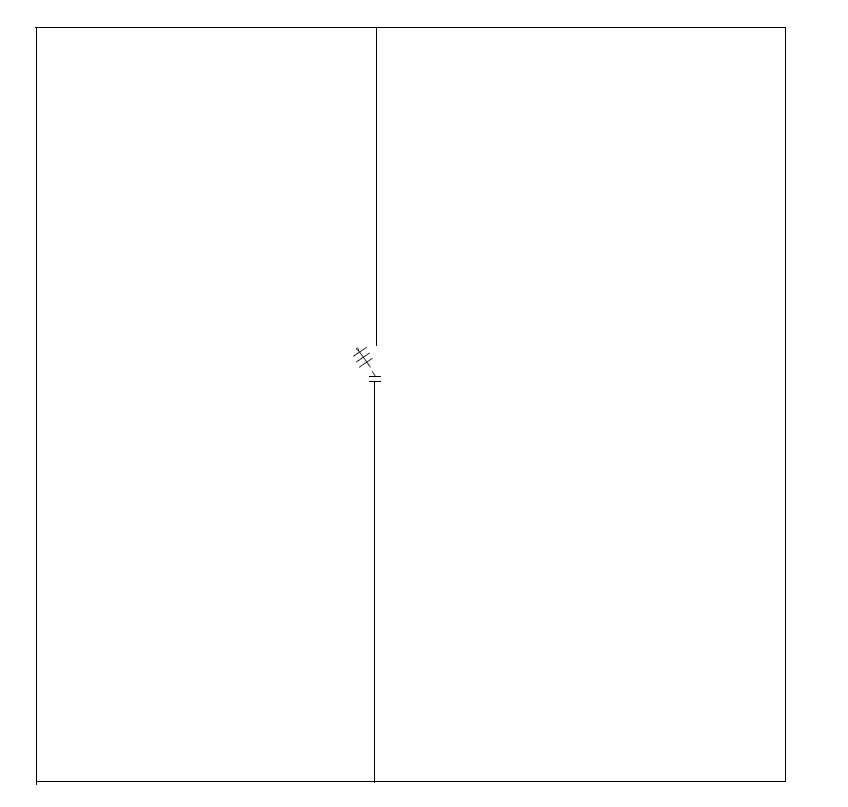MOCS: (341, 338, 407, 399)
